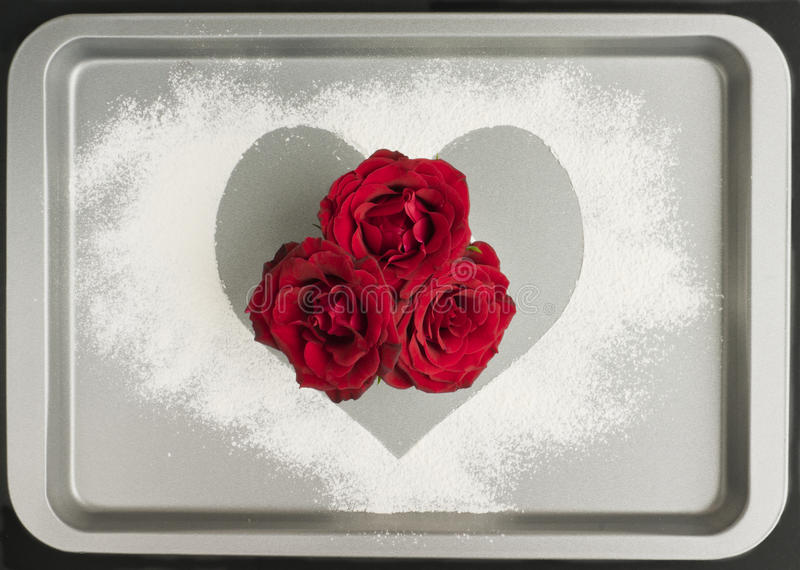RedRose: (367, 228, 531, 385), (324, 149, 482, 299), (244, 257, 385, 412)
